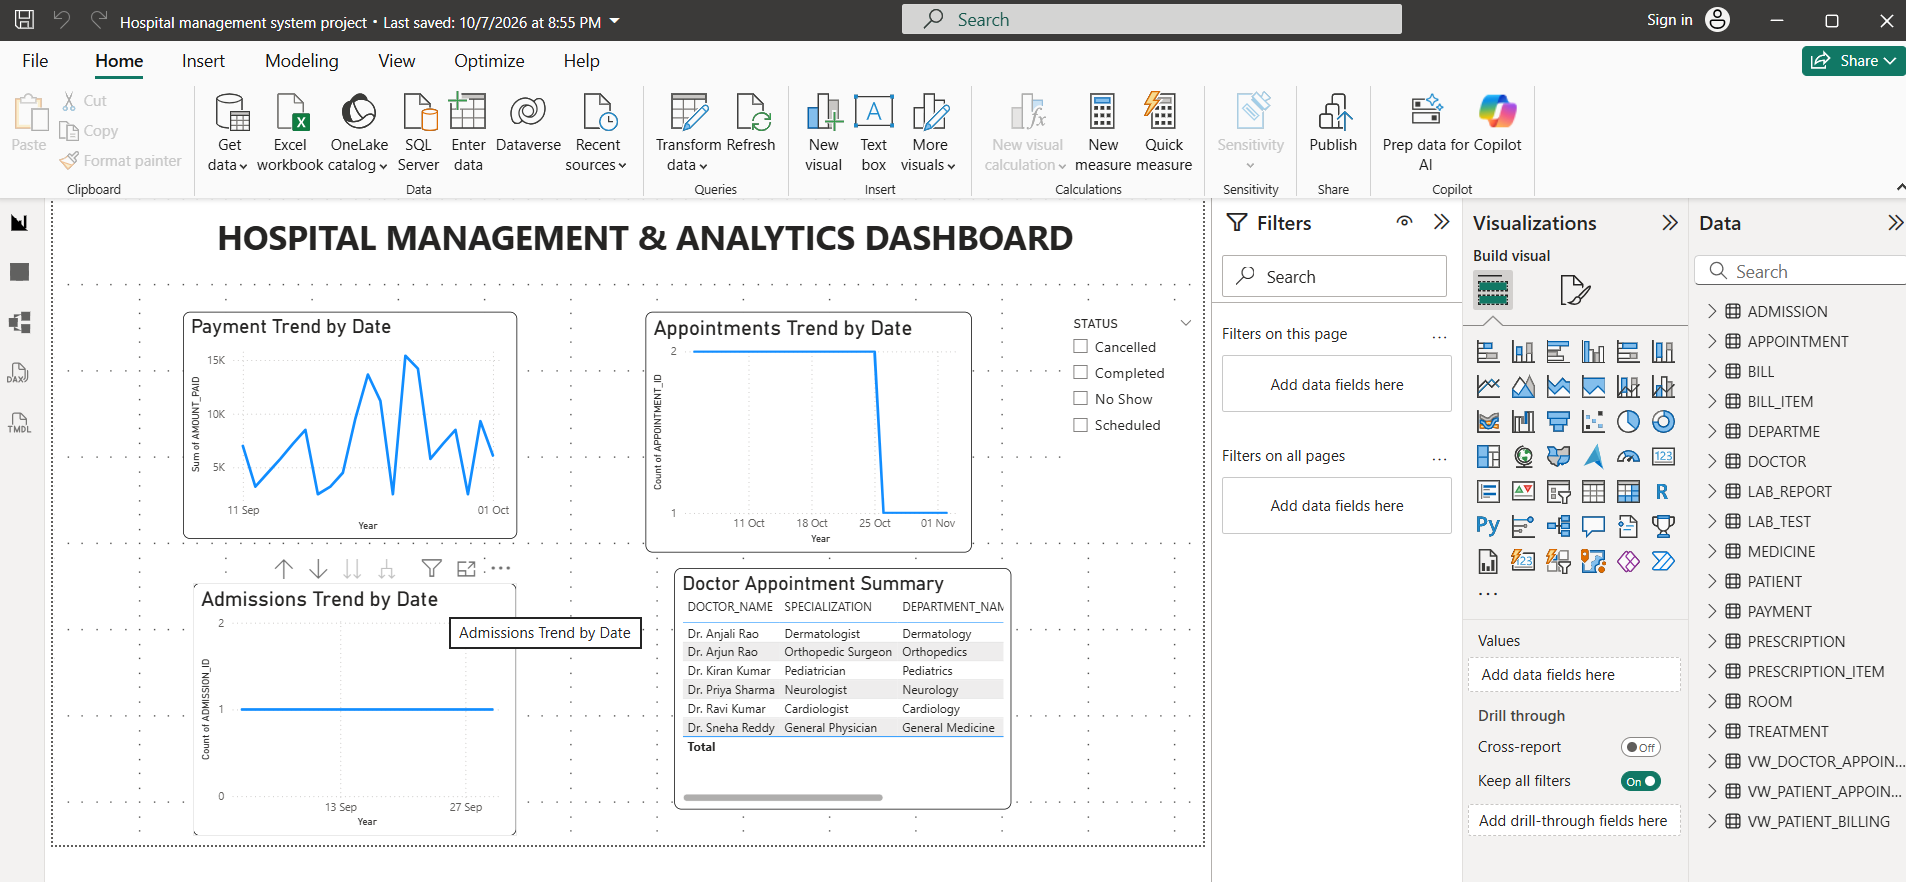

Layout of this report page (visuals, bound fields, positions):
{"tool":"powerbi","page":{"name":"Page 4","canvas":[1280,720],"ordinal":3},"visuals":[{"type":"lineChart","title":"Payment Trend by Date","fields":{"Category":["PAYMENT.PAYMENT_DATE.Variation.Date Hierarchy.Year","PAYMENT.PAYMENT_DATE.Variation.Date Hierarchy.Quarter","PAYMENT.PAYMENT_DATE.Variation.Date Hierarchy.Month","PAYMENT.PAYMENT_DATE.Variation.Date Hierarchy.Day"],"Y":["Sum(PAYMENT.AMOUNT_PAID)"]},"box":[144.4,126.5,372.2,253.1],"z":0},{"type":"lineChart","title":"Appointments Trend by Date","fields":{"Category":["APPOINTMENT.APPOINTMENT_DATE.Variation.Date Hierarchy.Year","APPOINTMENT.APPOINTMENT_DATE.Variation.Date Hierarchy.Quarter","APPOINTMENT.APPOINTMENT_DATE.Variation.Date Hierarchy.Month","APPOINTMENT.APPOINTMENT_DATE.Variation.Date Hierarchy.Day"],"Y":["CountNonNull(APPOINTMENT.APPOINTMENT_ID)"]},"box":[659.5,126.5,363.2,268],"z":1000},{"type":"lineChart","title":"Admissions Trend by Date","fields":{"Category":["ADMISSION.ADMISSION_DATE.Variation.Date Hierarchy.Year","ADMISSION.ADMISSION_DATE.Variation.Date Hierarchy.Quarter","ADMISSION.ADMISSION_DATE.Variation.Date Hierarchy.Month","ADMISSION.ADMISSION_DATE.Variation.Date Hierarchy.Day"],"Y":["CountNonNull(ADMISSION.ADMISSION_ID)"]},"box":[156.3,428.8,360.3,281.4],"z":2000},{"type":"tableEx","title":"Doctor Appointment Summary","fields":{"Values":["VW_DOCTOR_APPOINTMENTS.DOCTOR_NAME","VW_DOCTOR_APPOINTMENTS.SPECIALIZATION","VW_DOCTOR_APPOINTMENTS.DEPARTMENT_NAME","Sum(VW_DOCTOR_APPOINTMENTS.TOTAL_APPOINTMENTS)"]},"box":[690.9,411.6,375.3,269.1],"z":3000},{"type":"textbox","box":[37.2,11.9,1243.1,78.9],"z":4000},{"type":"slicer","fields":{"Values":["APPOINTMENT.STATUS"]},"box":[1122.9,126.5,157.1,253.1],"z":5000}]}

Visuals, with their boxes on the page's 1280x720 design canvas (x1, y1, x2, y2). These are canvas units, not pixel positions in the 1906x882 screenshot, which may show the page scaled, cropped or inside an application window:
"Payment Trend by Date" lineChart: box=[144, 126, 517, 380]
"Appointments Trend by Date" lineChart: box=[660, 126, 1023, 394]
"Admissions Trend by Date" lineChart: box=[156, 429, 517, 710]
"Doctor Appointment Summary" tableEx: box=[691, 412, 1066, 681]
textbox: box=[37, 12, 1280, 91]
slicer - APPOINTMENT.STATUS: box=[1123, 126, 1280, 380]
